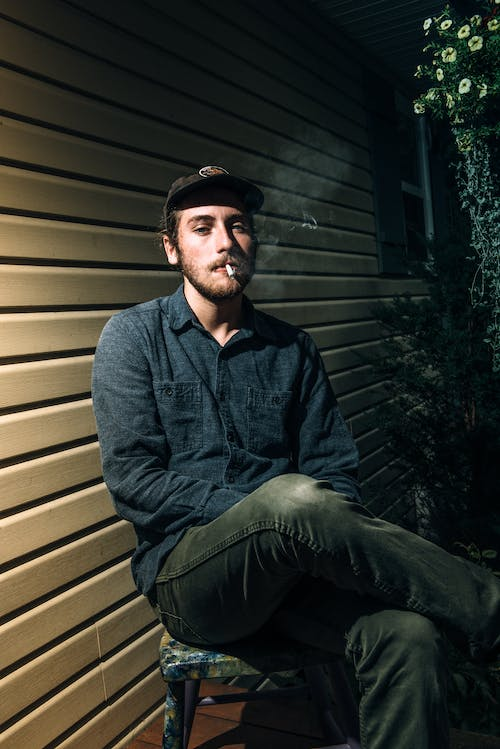cigarette: (223, 262, 236, 282)
